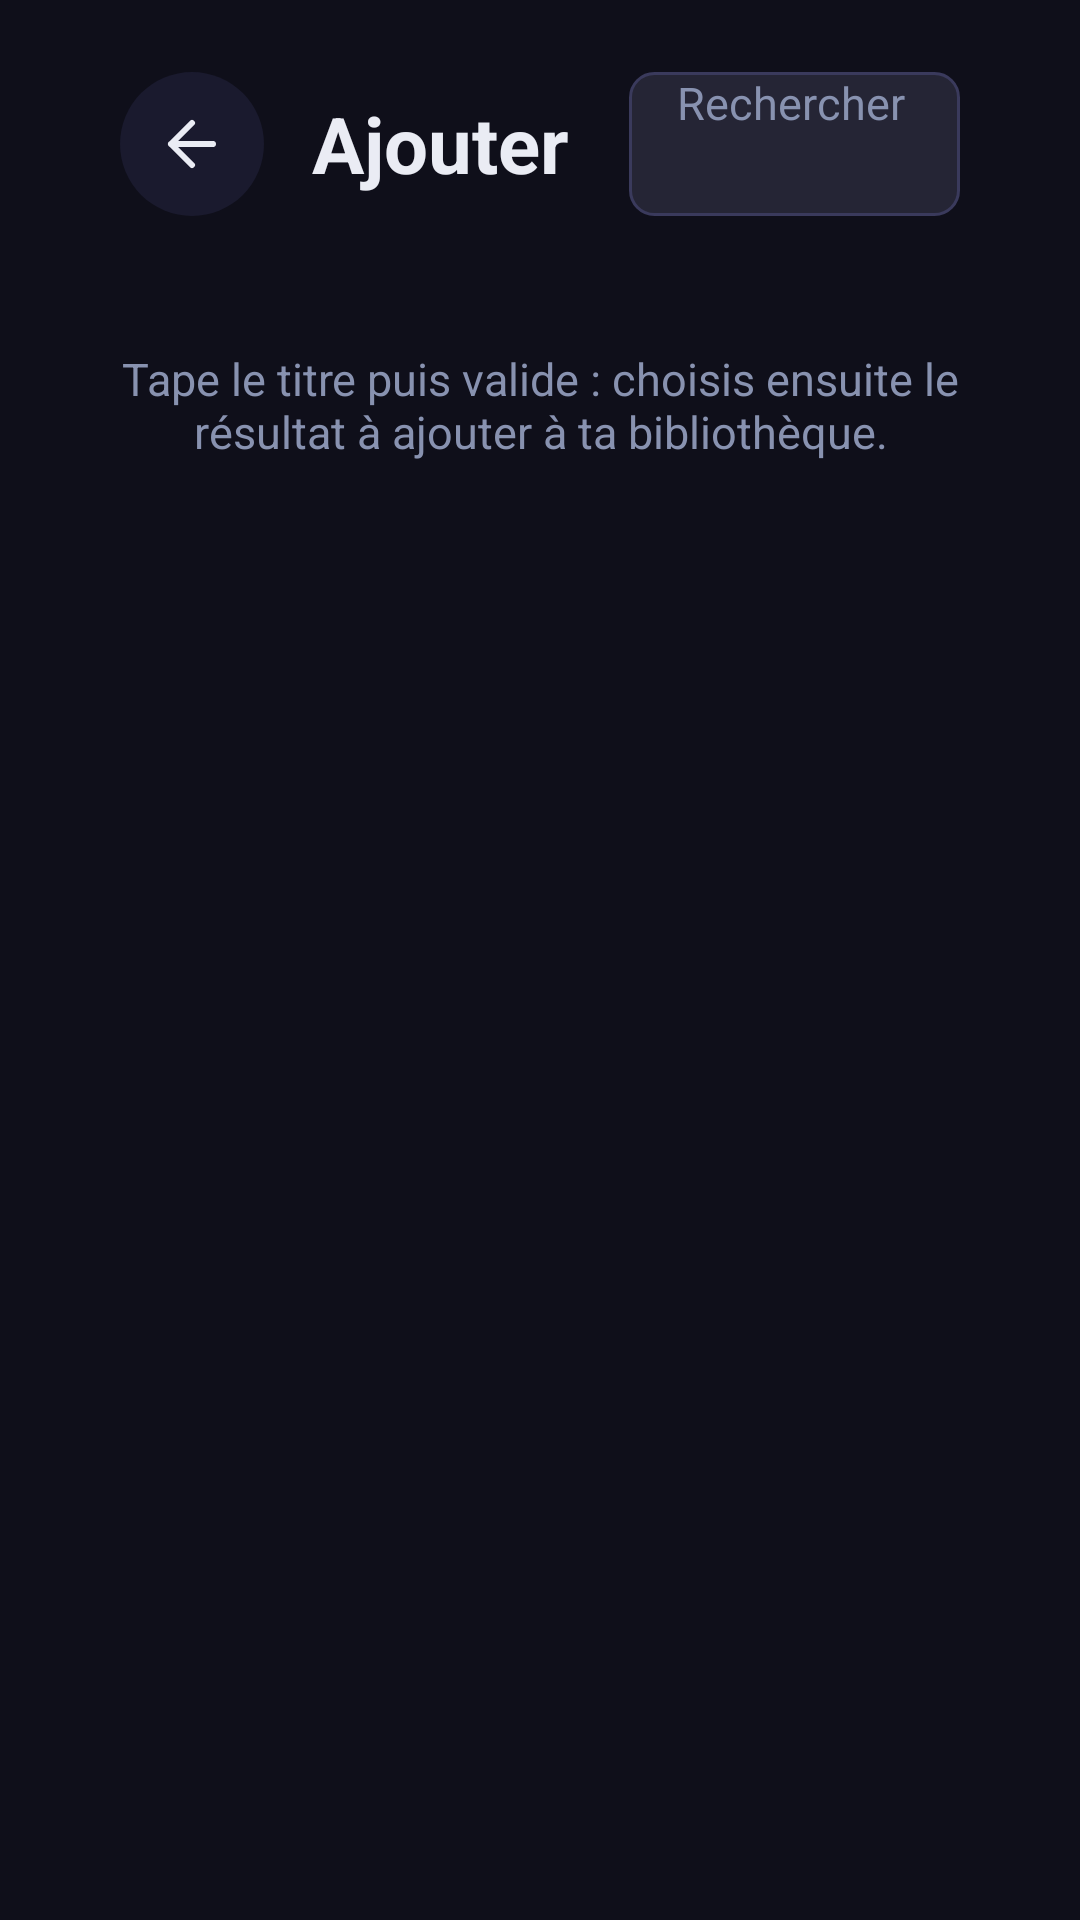

Where to tap for icons on this 1080 × 1920 app screen, as (x=x, y=y):
pwa back: (x=192, y=144)
